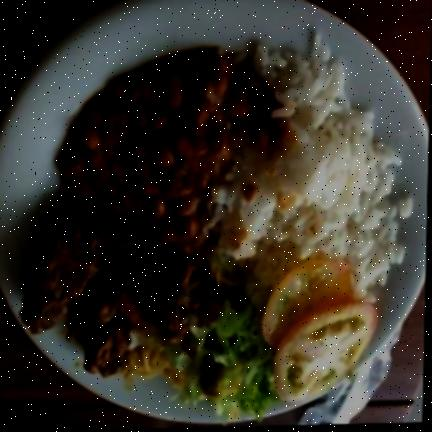beans: (58, 50, 257, 249)
meat: (20, 183, 236, 377)
rice: (211, 30, 413, 305)
salad: (137, 280, 297, 424)
tomato: (259, 256, 382, 403)
